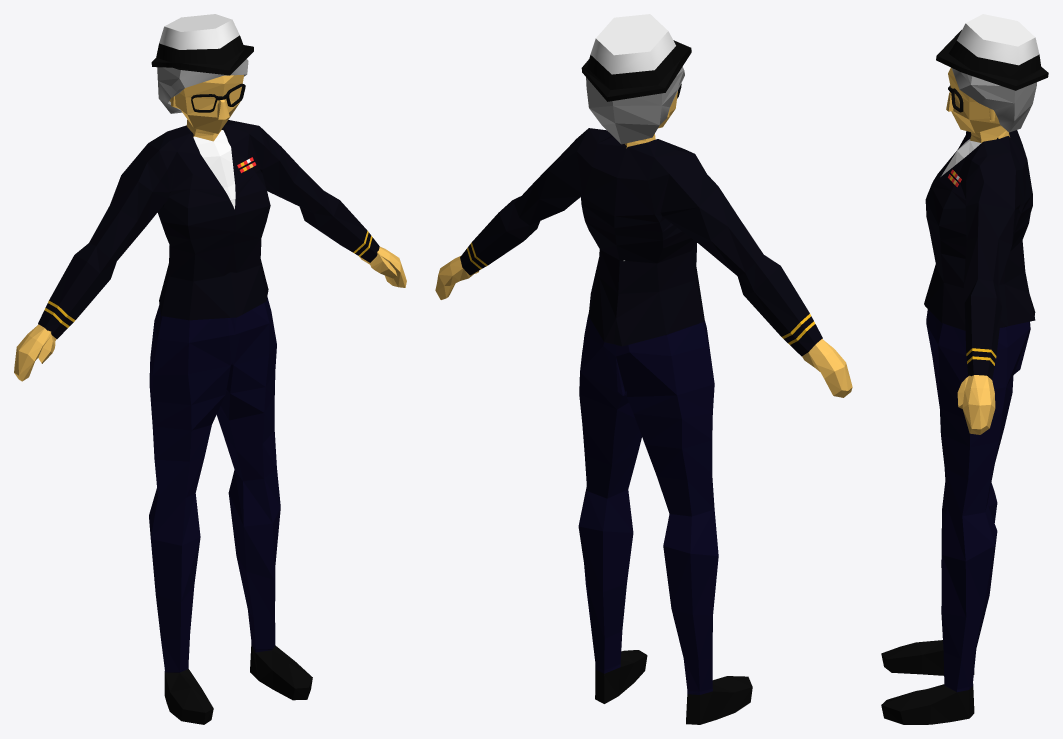
Rendered from base_hopper.FBX.
3 renders of one model, left to right at view 1: azimuth 30°, elevation 25°; view 2: azimuth 150°, elevation 25°; view 3: azimuth 270°, elevation 25°, orthographic. The views are drawn at different scales.
Visible parts, largest first — view 1: Box001; view 2: Box001; view 3: Box001.
Boxes of the visible parts, box(x1,y1,x2,y2) form: Box001: box(14, 14, 406, 724); Box001: box(435, 14, 852, 724); Box001: box(881, 14, 1048, 724).
Bounding box in the file's own units: 7.63 × 12.32 × 2.79.
